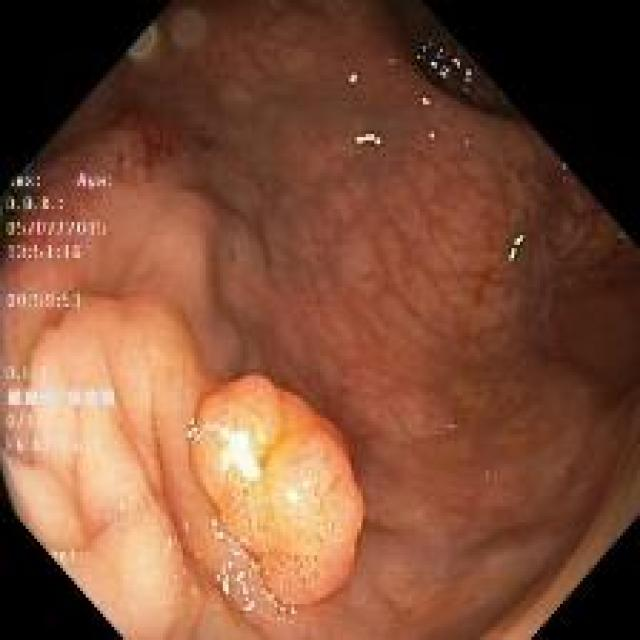Polyps: (191, 377, 365, 606)
